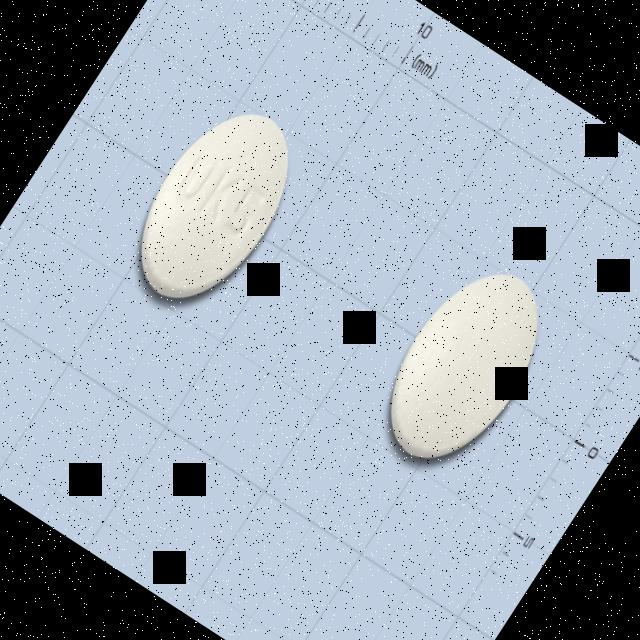Uniciprosacin Tab: (110, 86, 321, 326)
